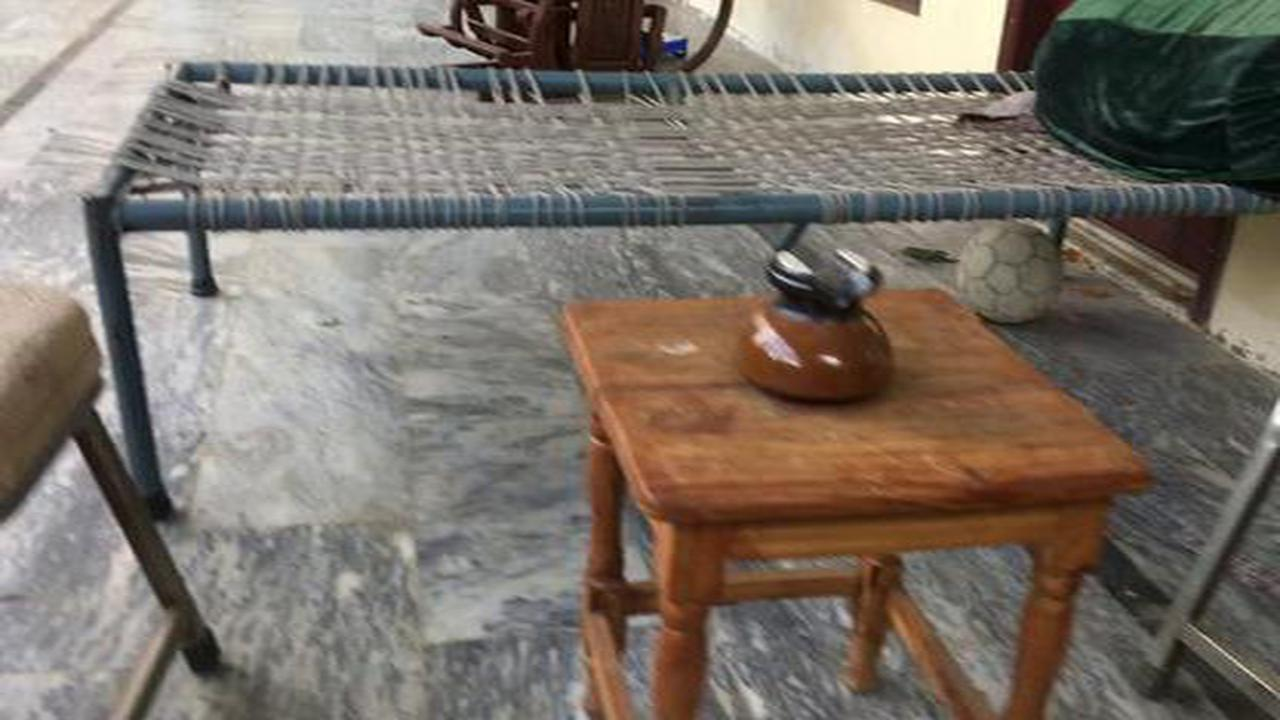insulator_pin: (708, 231, 921, 418)
